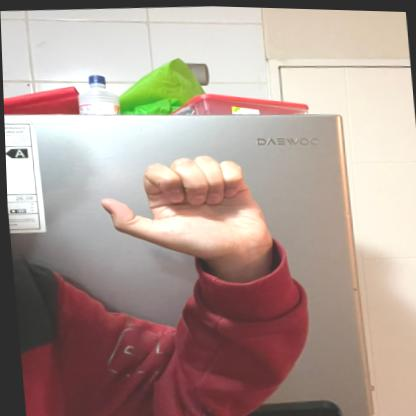E: (94, 146, 273, 258)
